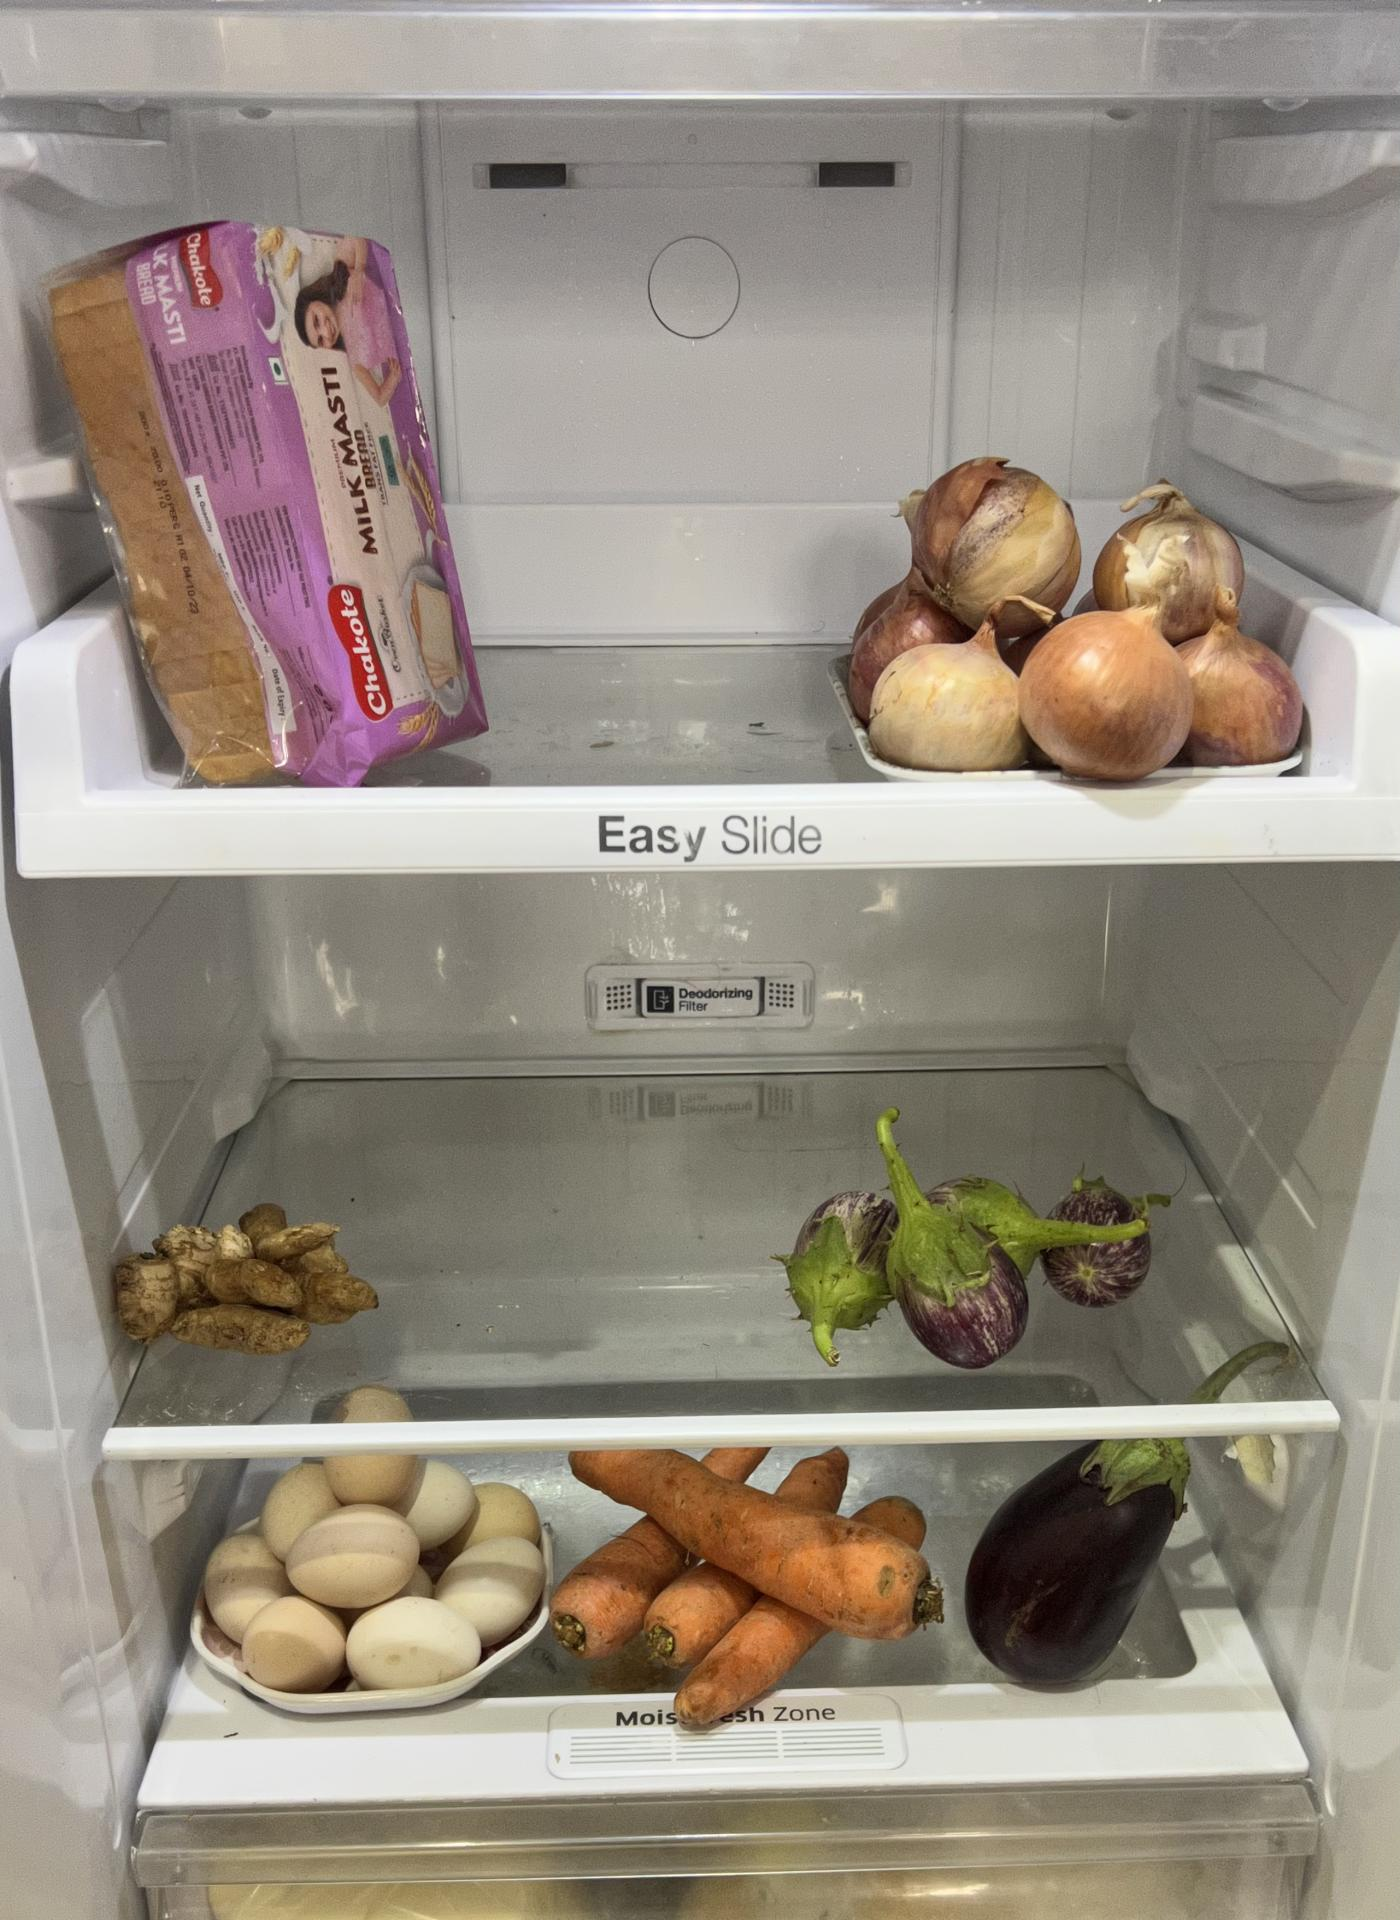bread: (36, 212, 501, 775)
carrots: (558, 1433, 953, 1726)
egg: (197, 1461, 559, 1696)
ginger: (98, 1194, 383, 1357)
onion: (836, 456, 1312, 775)
